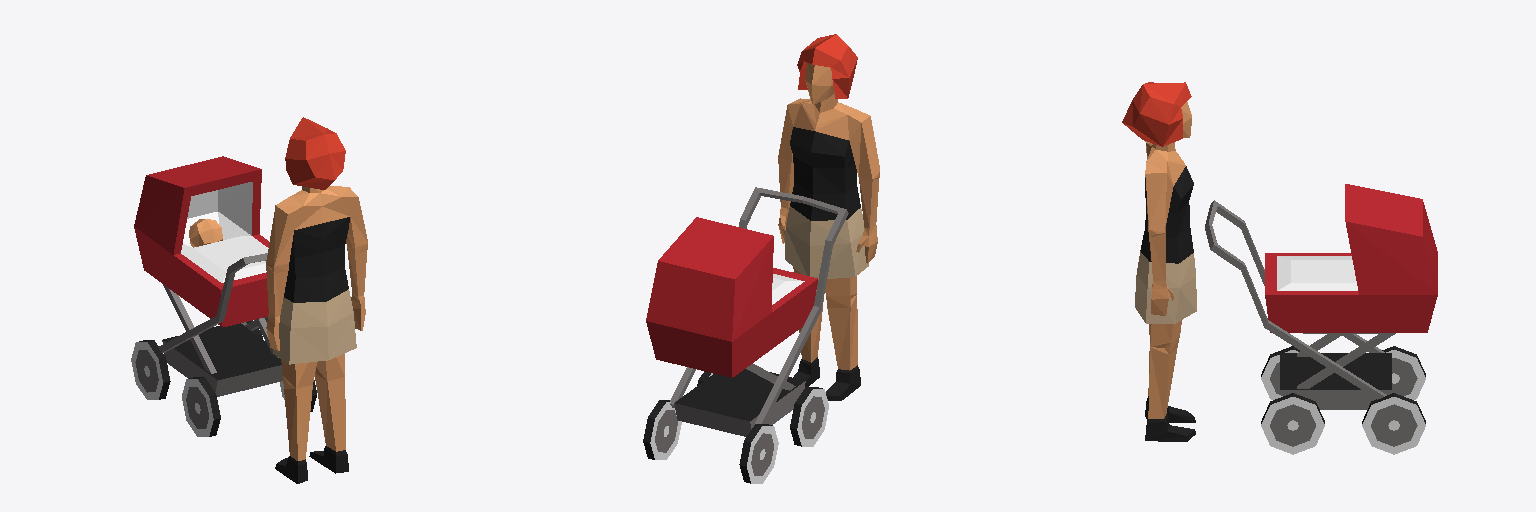
File: WomanWithBaby.obj
3 views of the same model, side by side, from view 1: azimuth 30°, elevation 25°; view 2: azimuth 150°, elevation 25°; view 3: azimuth 270°, elevation 25° (orthographic).
Parts seen in each view (by area): view 1: baby-carriage, woman-ginger; view 2: baby-carriage, woman-ginger; view 3: baby-carriage, woman-ginger.
Boxes of the visible parts, box(x1,y1,x2,y2) form: baby-carriage: box(131, 156, 316, 436); woman-ginger: box(266, 117, 367, 483); baby-carriage: box(643, 187, 848, 483); woman-ginger: box(778, 34, 879, 400); baby-carriage: box(1205, 184, 1437, 454); woman-ginger: box(1122, 82, 1196, 441).
Bounding box in the file's own units: 0.5774 × 1.85 × 1.53.